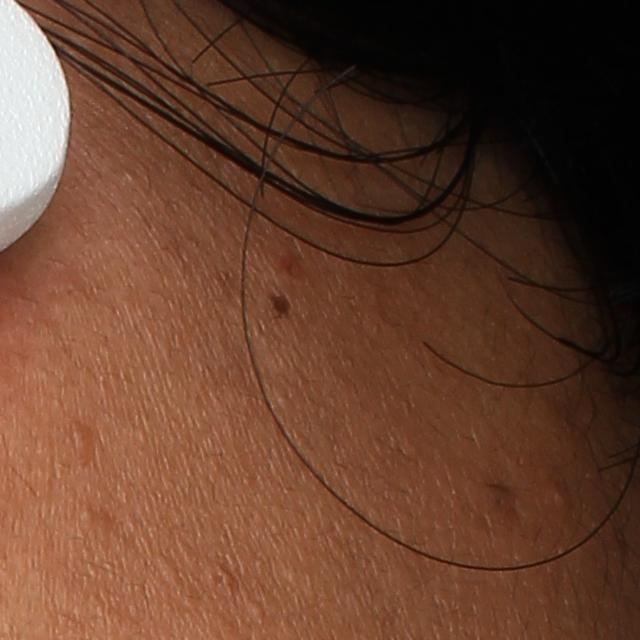comedo: (72, 425, 96, 451), (246, 596, 265, 625), (75, 503, 100, 525)
nevus: (270, 286, 296, 319)
